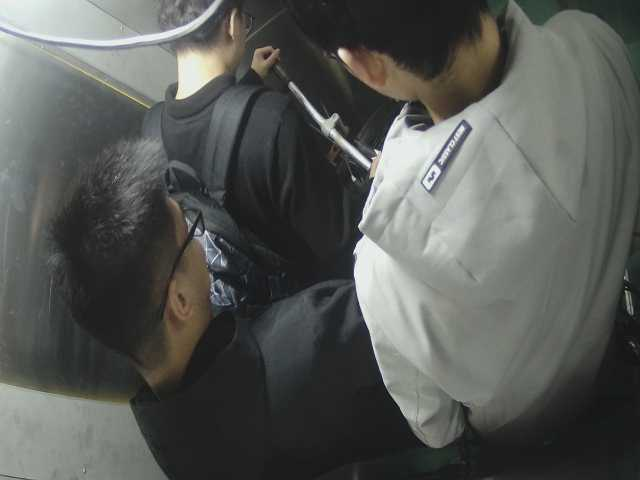bag: (146, 131, 284, 316)
bicycle: (268, 49, 382, 184)
person: (290, 1, 628, 449), (57, 151, 457, 475), (129, 1, 360, 268)
